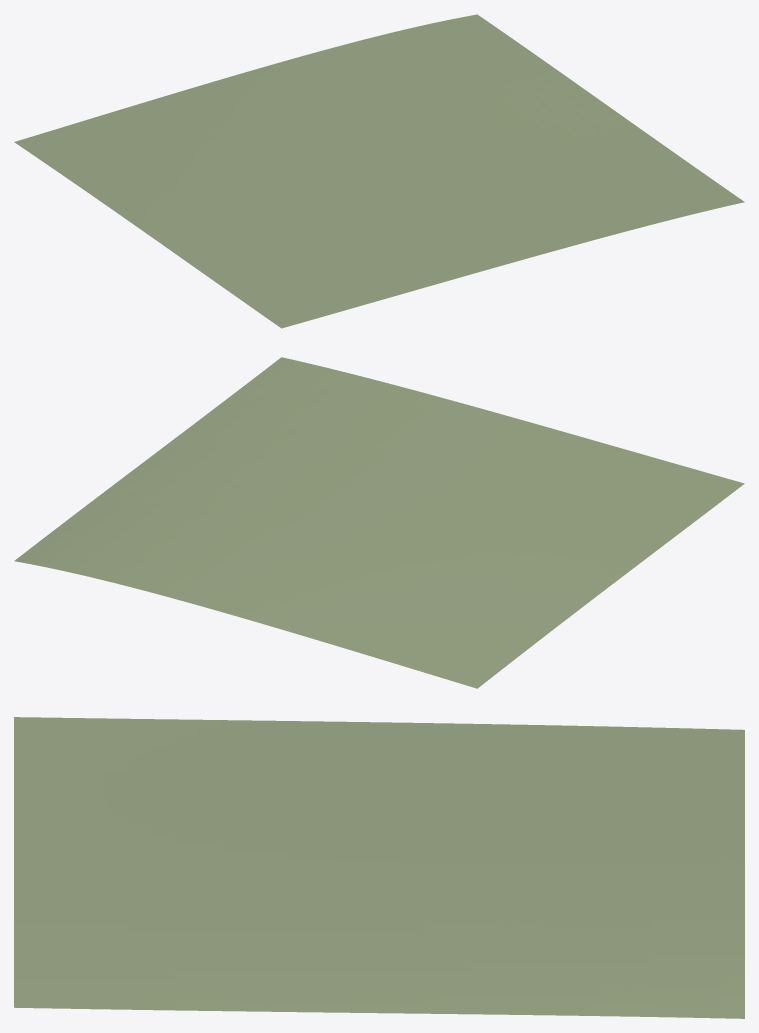
Rendered from expanse-11-25.glb.
The picture shows the model from 3 angles, top to bottom: view 1: azimuth 30°, elevation 25°; view 2: azimuth 150°, elevation 25°; view 3: azimuth 270°, elevation 25°; orthographic projection. The views are drawn at different scales.
Visible parts, largest first — view 1: expanse-11-25; view 2: expanse-11-25; view 3: expanse-11-25.
Boxes of the visible parts, x1,y1,x2,y2 form: expanse-11-25: (14, 14, 744, 328); expanse-11-25: (14, 357, 744, 688); expanse-11-25: (14, 717, 744, 1018).
Size of the model in its own units: 256 by 12.24 by 256.
